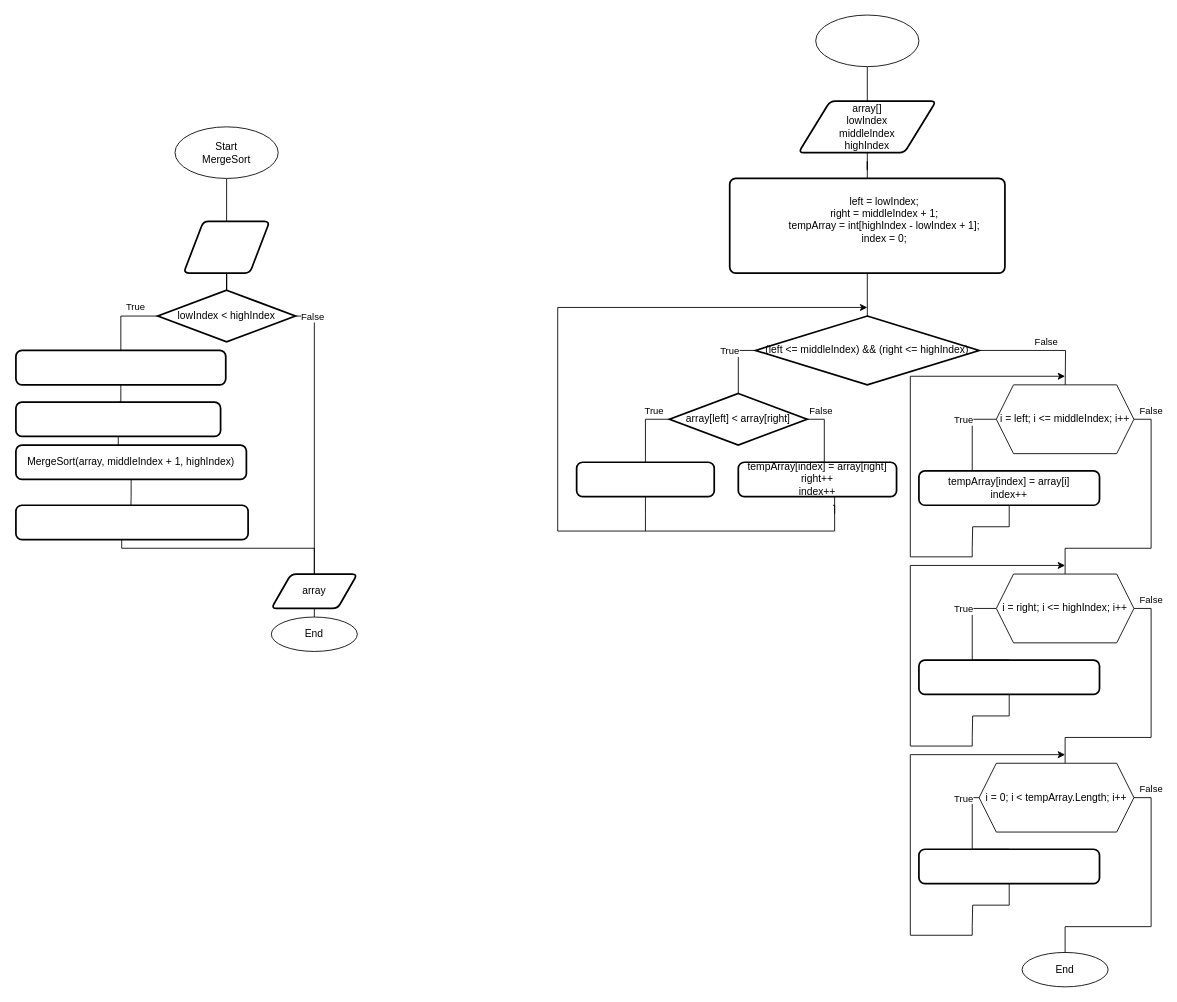
This 1177x1002 diagram has some shape labels left out. Each missing label, with the centre of its shape:
"array[] lowIndex highIndex" goes at [226,246].
"array[lowIndex + i] = tempArray[i]" goes at [1009,866].
"int middleIndex = (lowIndex + highIndex) / 2" goes at [120,367].
"Merge(array, lowIndex, middleIndex, highIndex)" goes at [132,522].
"MergeSort(array, lowIndex, middleIndex)" goes at [118,419].
"Start Merge" goes at [867,40].
"tempArray[index] = array[i]; index++;" goes at [1009,677].
"tempArray[index] = array[left] left++ index++" goes at [645,479].
